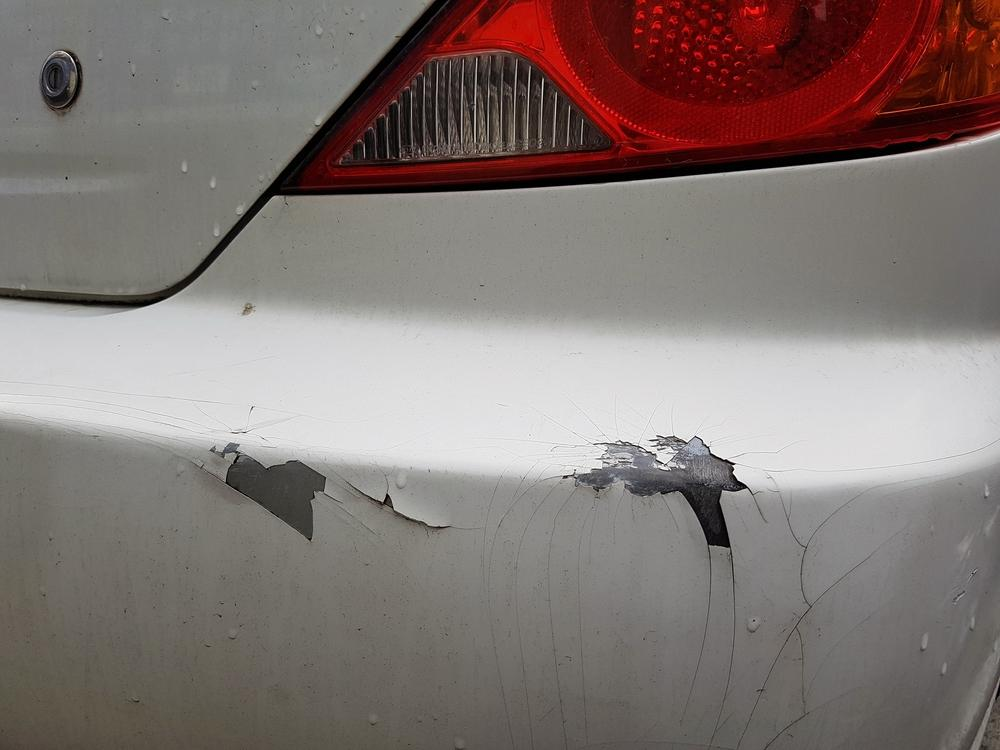scratch: (192, 411, 852, 750)
